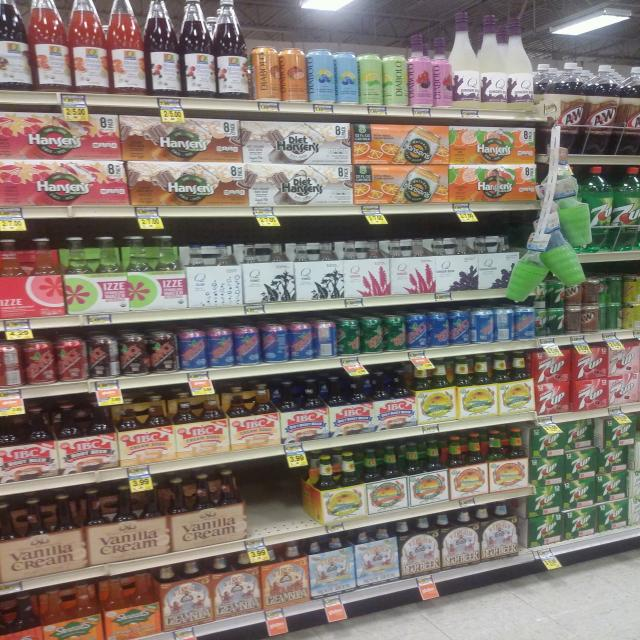void: (250, 455, 312, 537)
